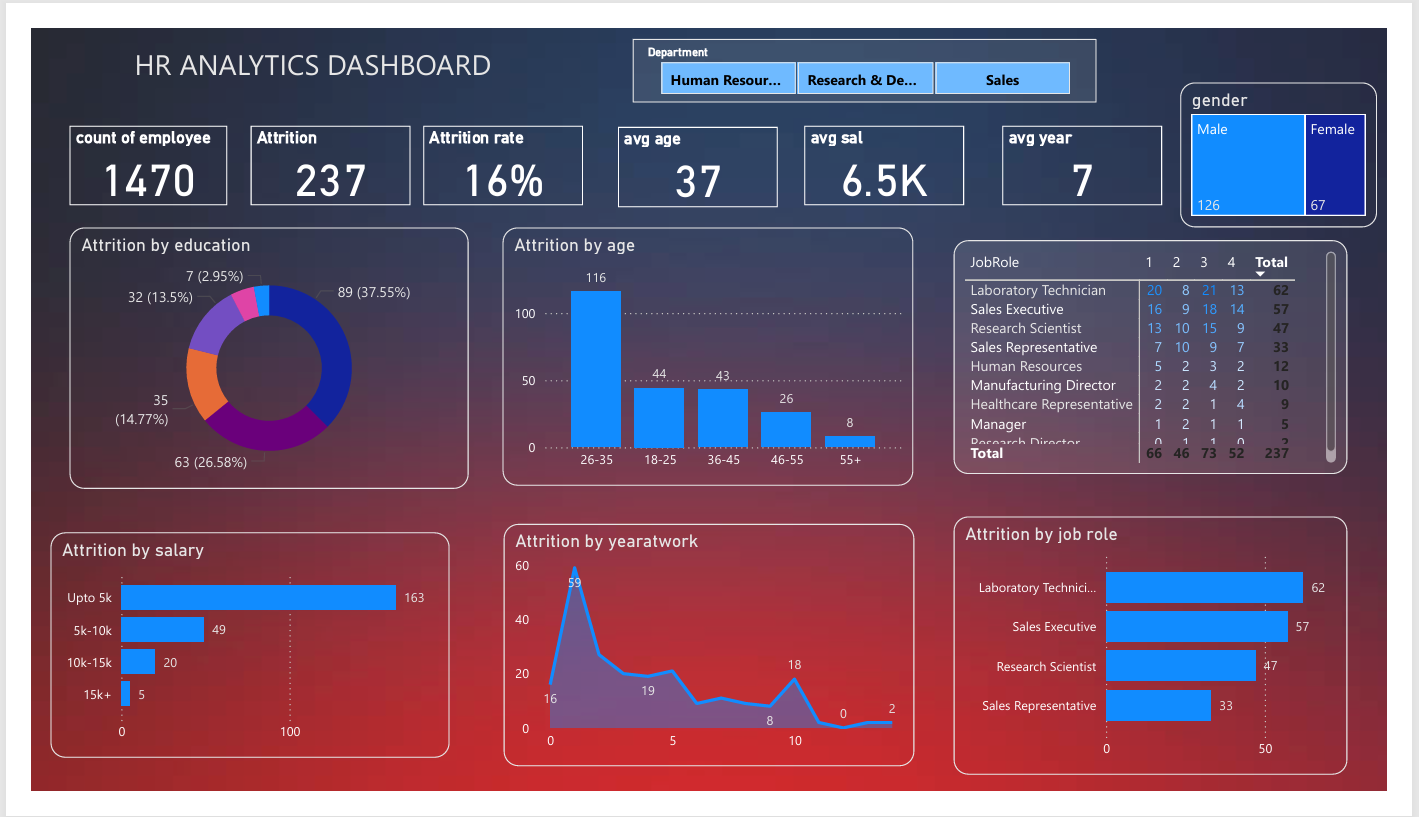

Layout of this report page (visuals, bound fields, positions):
{"tool":"powerbi","page":{"name":"Page 1","canvas":[1280,720],"ordinal":0},"visuals":[{"type":"card","title":"count of employee","fields":{"Values":["CountNonNull(HR_Analytics (2).EmpID)"]},"box":[35.7,91.9,149.6,75.5],"z":0},{"type":"card","title":"Attrition","fields":{"Values":["Sum(HR_Analytics (2).count)"]},"box":[207.2,91.9,150.9,75.5],"z":1000},{"type":"card","title":"Attrition rate","fields":{"Values":["HR_Analytics (2).Attraction_rate"]},"box":[370.5,91.9,150.9,75.5],"z":2000},{"type":"card","title":"avg age","fields":{"Values":["HR_Analytics (2).avg_age"]},"box":[554.4,93.3,150.9,75.5],"z":3000},{"type":"card","title":"avg sal","fields":{"Values":["Avg(HR_Analytics (2).MonthlyIncome)"]},"box":[730,91.9,150.9,75.5],"z":4000},{"type":"card","title":"avg year","fields":{"Values":["Avg(HR_Analytics (2).YearsAtCompany)"]},"box":[916.6,91.9,150.9,75.5],"z":5000},{"type":"donutChart","title":"Attrition by education","fields":{"Category":["HR_Analytics (2).EducationField"],"Y":["Sum(HR_Analytics (2).count)"]},"box":[35.7,188,377.4,247],"z":6000},{"type":"columnChart","title":"Attrition by age","fields":{"Category":["HR_Analytics (2).AgeGroup"],"Y":["Sum(HR_Analytics (2).count)"]},"box":[444.6,188,388.3,244.3],"z":7000},{"type":"pivotTable","title":"Attrition by age","fields":{"Rows":["HR_Analytics (2).JobRole"],"Values":["Sum(HR_Analytics (2).count)"],"Columns":["HR_Analytics (2).JobSatisfaction"]},"box":[871.4,200.3,371.9,220.9],"z":8000},{"type":"barChart","title":"Attrition by salary","fields":{"Category":["HR_Analytics (2).SalarySlab"],"Y":["Sum(HR_Analytics (2).count)"]},"box":[17.8,476.2,377.4,212.7],"z":9000},{"type":"barChart","title":"Attrition by job role","fields":{"Category":["HR_Analytics (2).JobRole"],"Y":["Sum(HR_Analytics (2).count)"]},"box":[871.4,461.1,371.9,244.3],"z":10000},{"type":"areaChart","title":"Attrition by yearatwork","fields":{"Category":["HR_Analytics (2).YearsAtCompany"],"Y":["Sum(HR_Analytics (2).count)"]},"box":[446,467.9,388.3,229.2],"z":11000},{"type":"treemap","title":"gender","fields":{"Group":["HR_Analytics (2).Gender"],"Values":["Sum(HR_Analytics (2).count)"]},"box":[1085.4,50.8,185.2,137.2],"z":12000},{"type":"slicer","fields":{"Values":["HR_Analytics (2).Department"]},"box":[568.1,9.6,437.7,60.4],"z":13000},{"type":"textbox","box":[17.8,9.6,503.6,71.4],"z":14000}]}

Visuals, with their boxes in screenshot pixels (x1, y1, x2, y2), scaled from the page's 1280x720 canvas onto the 1419x817 screenshot:
"count of employee" card: detection(40, 104, 205, 190)
"Attrition" card: detection(230, 104, 397, 190)
"Attrition rate" card: detection(411, 104, 578, 190)
"avg age" card: detection(615, 106, 782, 192)
"avg sal" card: detection(809, 104, 977, 190)
"avg year" card: detection(1016, 104, 1183, 190)
"Attrition by education" donutChart: detection(40, 213, 458, 494)
"Attrition by age" columnChart: detection(493, 213, 923, 491)
"Attrition by age" pivotTable: detection(966, 227, 1378, 478)
"Attrition by salary" barChart: detection(20, 540, 438, 782)
"Attrition by job role" barChart: detection(966, 523, 1378, 800)
"Attrition by yearatwork" areaChart: detection(494, 531, 925, 791)
"gender" treemap: detection(1203, 58, 1409, 213)
slicer - HR_Analytics (2).Department: detection(630, 11, 1115, 79)
textbox: detection(20, 11, 578, 92)
